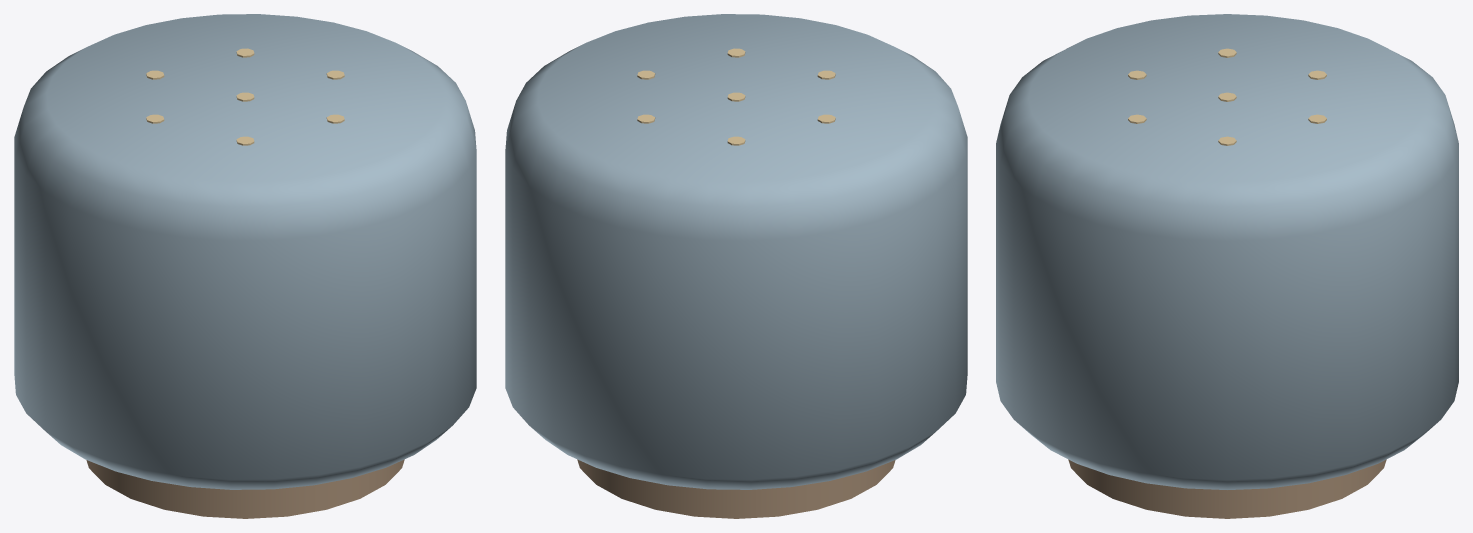
3 views of the same model, side by side, from view 1: azimuth 30°, elevation 25°; view 2: azimuth 150°, elevation 25°; view 3: azimuth 270°, elevation 25° (orthographic).
Visible parts, largest first — view 1: Ghế đôn tròn; view 2: Ghế đôn tròn; view 3: Ghế đôn tròn.
Boxes of the visible parts, <box> form: Ghế đôn tròn: <box>14,14,476,518</box>; Ghế đôn tròn: <box>505,14,967,518</box>; Ghế đôn tròn: <box>996,14,1458,518</box>.
Bounding box in the file's own units: 0.5 × 0.422 × 0.5.
